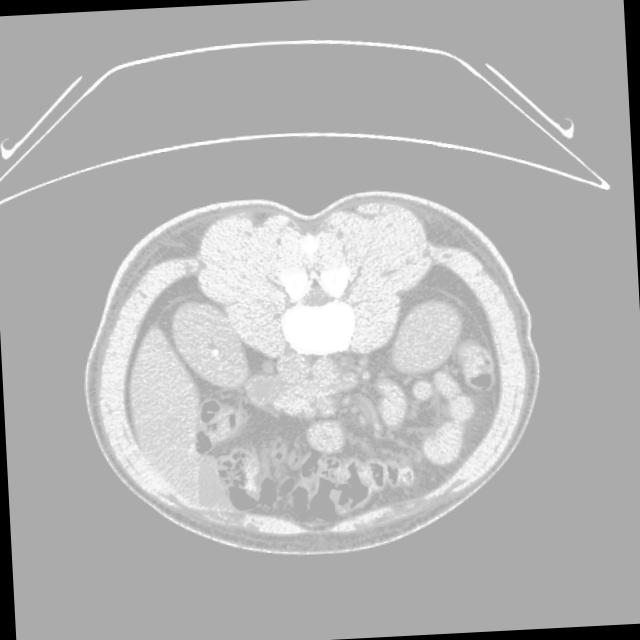STONE: (201, 326, 499, 534)
